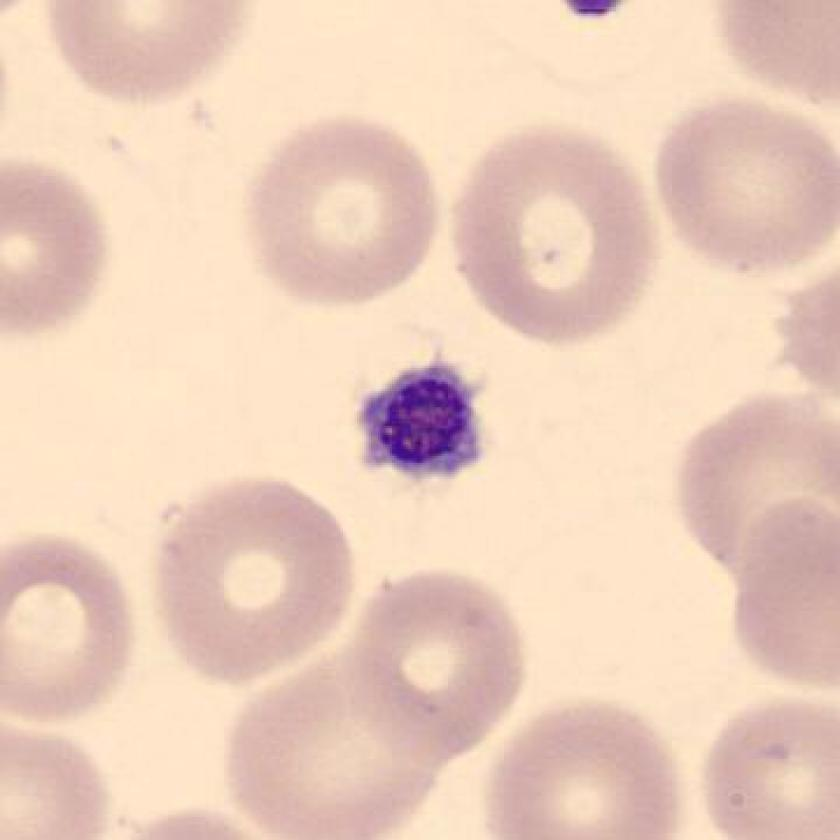platelets: (353, 341, 503, 499)
